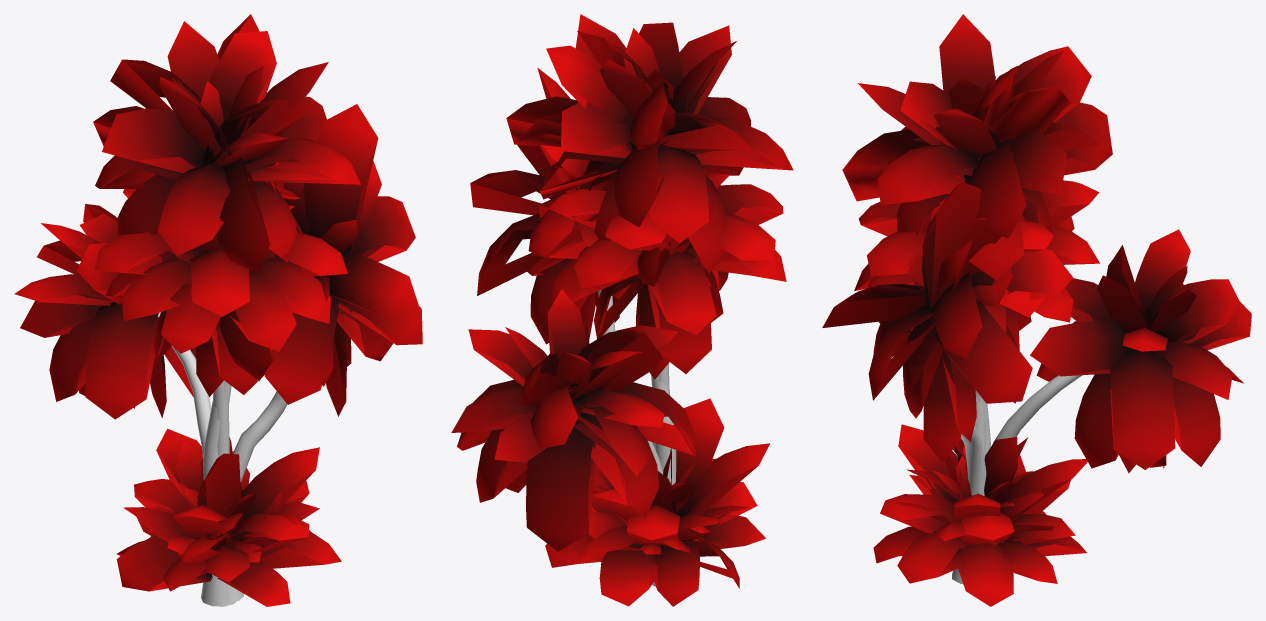
File: Palmtrees.fbx
The picture shows the model from 3 angles, left to right: view 1: azimuth 30°, elevation 25°; view 2: azimuth 150°, elevation 25°; view 3: azimuth 270°, elevation 25°; orthographic projection. The views are drawn at different scales.
Parts seen in each view (by area): view 1: Palm1 (×18), Palm_tree1_LOD0, Palm_tree4_LOD0, Palm_tree2_LOD0, Palm_tree3_LOD0; view 2: Palm1 (×17), Palm_tree4_LOD0; view 3: Palm1 (×16), Palm_tree2_LOD0, Palm_tree1_LOD0.
Part boxes in pixels (left/top/right/bottom): Palm1 (×18): left=14, top=14, right=422, bottom=606; Palm_tree1_LOD0: left=225, top=391, right=287, bottom=602; Palm_tree4_LOD0: left=201, top=381, right=236, bottom=606; Palm_tree2_LOD0: left=157, top=312, right=211, bottom=456; Palm_tree3_LOD0: left=213, top=380, right=229, bottom=457; Palm1 (×17): left=451, top=14, right=793, bottom=606; Palm_tree4_LOD0: left=651, top=375, right=676, bottom=586; Palm1 (×16): left=822, top=14, right=1251, bottom=606; Palm_tree2_LOD0: left=993, top=375, right=1081, bottom=443; Palm_tree1_LOD0: left=952, top=426, right=986, bottom=583.
Size of what is drawn, in the model's own units: 30.76 by 51.63 by 37.74.
